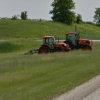Tractor: (31, 24, 94, 57)
